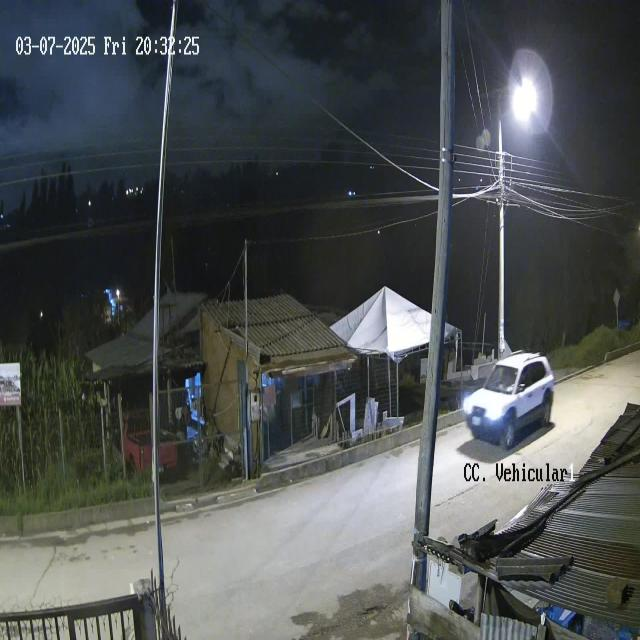SUV: (462, 349, 555, 447)
